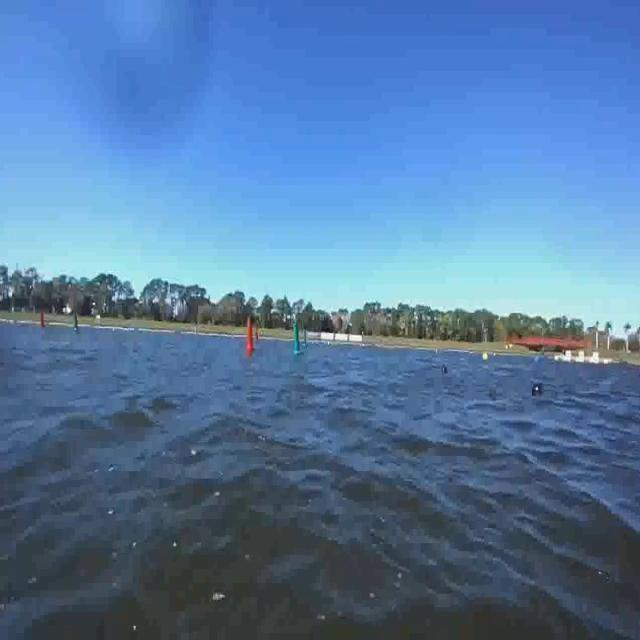black-buoy: (533, 384, 543, 395), (441, 366, 448, 380)
green-column-buoy: (292, 325, 302, 357), (72, 311, 81, 334)
red-column-buoy: (247, 319, 256, 350), (39, 312, 47, 329)
yellow-buoy: (483, 351, 490, 363)
